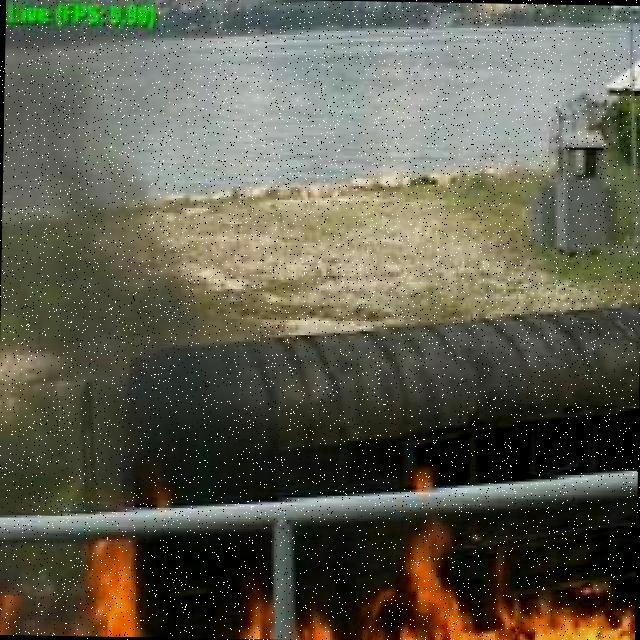Fire: (364, 541, 636, 640), (0, 545, 173, 638), (238, 573, 349, 640)
